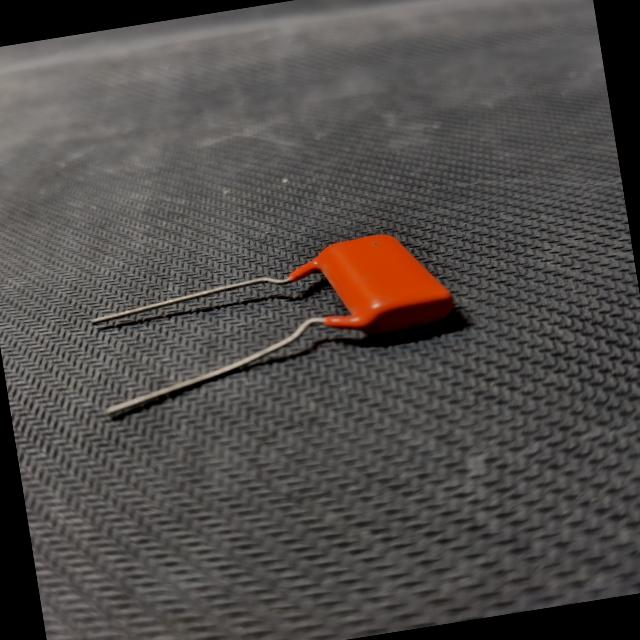capacitor: (67, 211, 480, 434)
